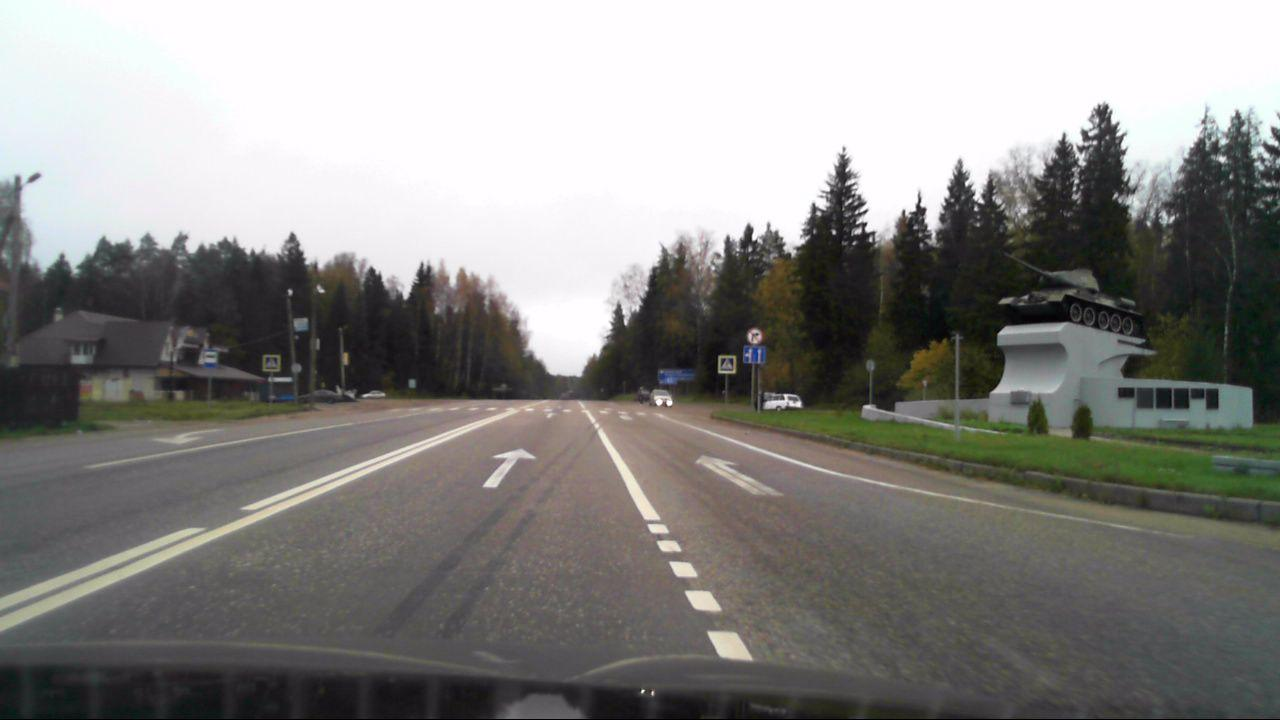3_18_1: (745, 326, 762, 345)
5_15_1: (744, 347, 764, 363)
5_16: (205, 350, 218, 367)
5_19_1: (720, 357, 734, 370)
5_19_2: (264, 356, 279, 369)
